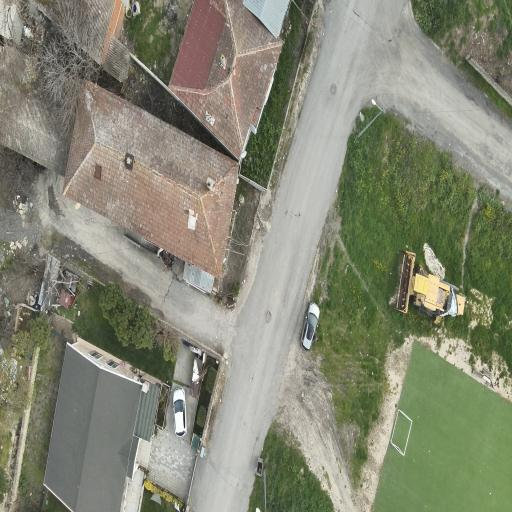car: (300, 303, 318, 350), (172, 388, 185, 437)
harvester: (395, 252, 464, 323)
